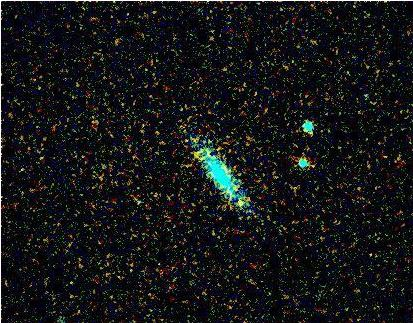star: (226, 188, 256, 218)
